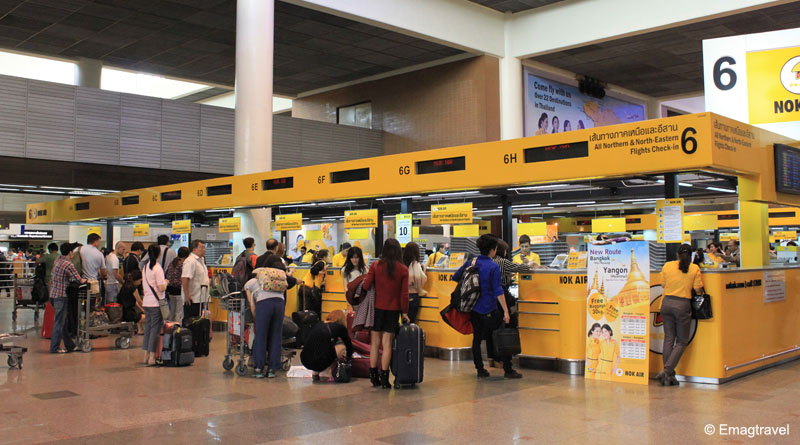backpack: (452, 263, 480, 311), (250, 263, 290, 295)
bag: (438, 296, 475, 337), (492, 322, 523, 359), (689, 290, 712, 323), (331, 359, 355, 385), (216, 273, 238, 299), (291, 309, 321, 326), (279, 315, 297, 343), (307, 284, 326, 303), (87, 307, 105, 325), (155, 296, 169, 318), (105, 301, 121, 320)
luggage: (390, 319, 428, 390), (180, 283, 214, 359), (348, 333, 386, 382), (161, 319, 193, 366)
people: (451, 231, 523, 383), (660, 232, 705, 393), (367, 234, 411, 384), (46, 241, 85, 367), (245, 271, 282, 384), (180, 242, 214, 357), (301, 307, 352, 381), (139, 244, 168, 368)
